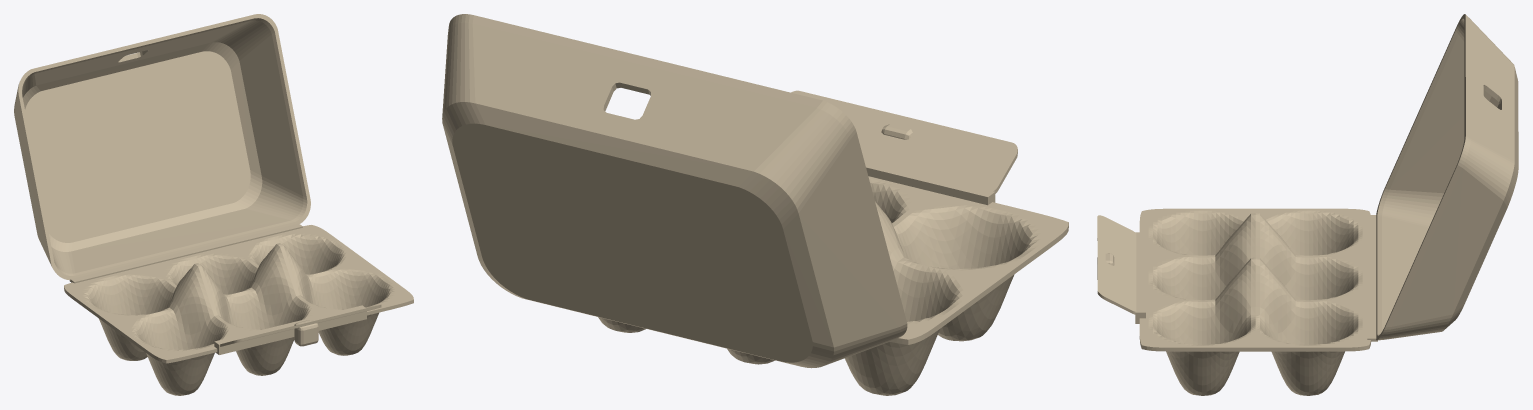
The picture shows the model from 3 angles, left to right: view 1: azimuth 30°, elevation 25°; view 2: azimuth 150°, elevation 25°; view 3: azimuth 270°, elevation 25°; orthographic projection. The views are drawn at different scales.
Parts seen in each view (by area): view 1: Hollow hinged lid with catch opening, Six well molded body with full underside, Front living hinge fold, Rear living hinge fold, Front folding closure flap, Raised closure catch; view 2: Hollow hinged lid with catch opening, Six well molded body with full underside, Front folding closure flap, Front living hinge fold; view 3: Six well molded body with full underside, Hollow hinged lid with catch opening, Front folding closure flap, Rear living hinge fold, Front living hinge fold.
Part boxes in pixels (x1,y1,x2,y2): Hollow hinged lid with catch opening: (14, 14, 310, 280); Six well molded body with full underside: (64, 225, 413, 395); Front living hinge fold: (214, 305, 366, 354); Rear living hinge fold: (69, 223, 302, 283); Front folding closure flap: (220, 305, 381, 346); Raised closure catch: (294, 320, 318, 346); Hollow hinged lid with catch opening: (442, 14, 907, 368); Six well molded body with full underside: (598, 176, 1068, 395); Front folding closure flap: (791, 90, 1017, 193); Front living hinge fold: (864, 160, 995, 205); Six well molded body with full underside: (1139, 208, 1370, 395); Hollow hinged lid with catch opening: (1376, 14, 1518, 340); Front folding closure flap: (1097, 215, 1136, 314); Rear living hinge fold: (1367, 215, 1377, 341); Front living hinge fold: (1135, 232, 1145, 323).
Bounding box in the file's own units: 0.158 × 0.1407 × 0.1997.
